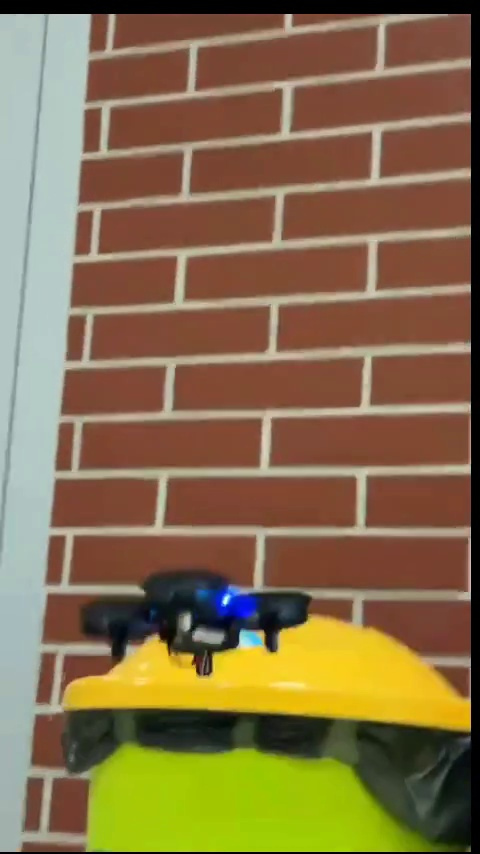drone: (66, 565, 299, 673)
